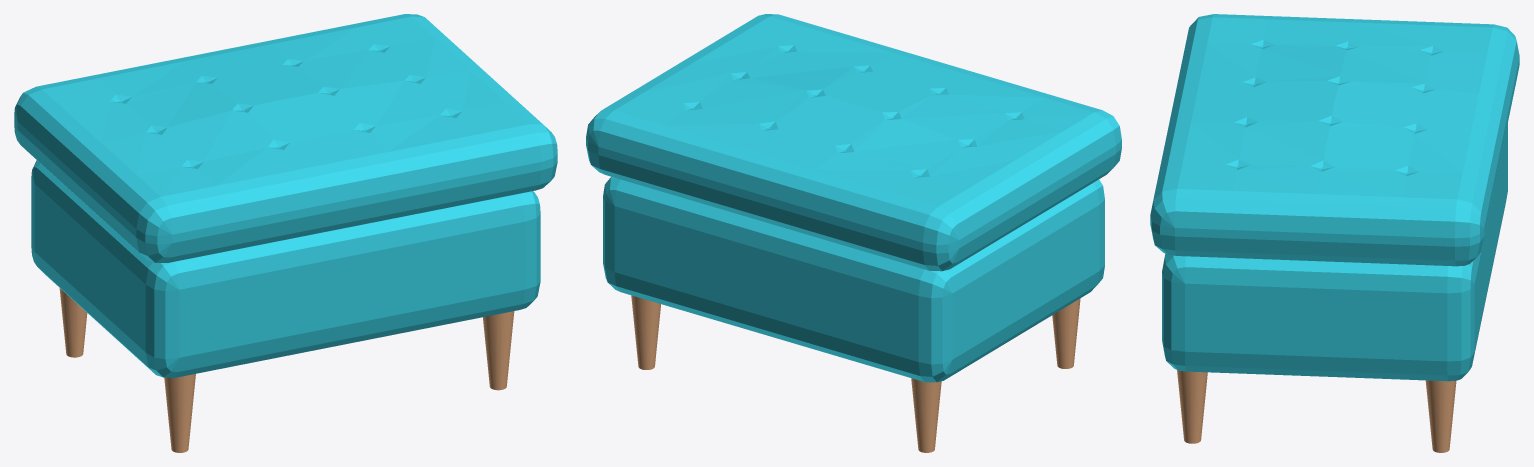
3 views of the same model, side by side, from view 1: azimuth 30°, elevation 25°; view 2: azimuth 150°, elevation 25°; view 3: azimuth 270°, elevation 25° (orthographic). The views are drawn at different scales.
Parts seen in each view (by area): view 1: Box002, Box001, Cylinder004, Cylinder003, Cylinder001; view 2: Box002, Box001, Cylinder001, Cylinder002, Cylinder004; view 3: Box002, Box001, Cylinder003, Cylinder002.
Boxes of the visible parts, bbox=[...] form: Box002: bbox=[14, 14, 557, 262]; Box001: bbox=[31, 160, 540, 377]; Cylinder004: bbox=[164, 374, 195, 452]; Cylinder003: bbox=[483, 311, 514, 390]; Cylinder001: bbox=[59, 288, 87, 357]; Box002: bbox=[586, 14, 1121, 271]; Box001: bbox=[603, 177, 1104, 382]; Cylinder001: bbox=[911, 378, 941, 452]; Cylinder002: bbox=[631, 295, 660, 369]; Cylinder004: bbox=[1052, 298, 1080, 368]; Box002: bbox=[1150, 14, 1519, 266]; Box001: bbox=[1162, 123, 1507, 381]; Cylinder003: bbox=[1177, 370, 1207, 443]; Cylinder002: bbox=[1425, 380, 1456, 452].
Size of the model in its own units: 403156 by 248370 by 307331.
